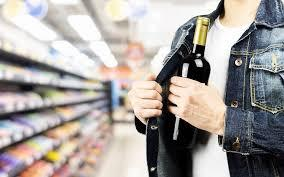shoplifting: (123, 16, 226, 177)
